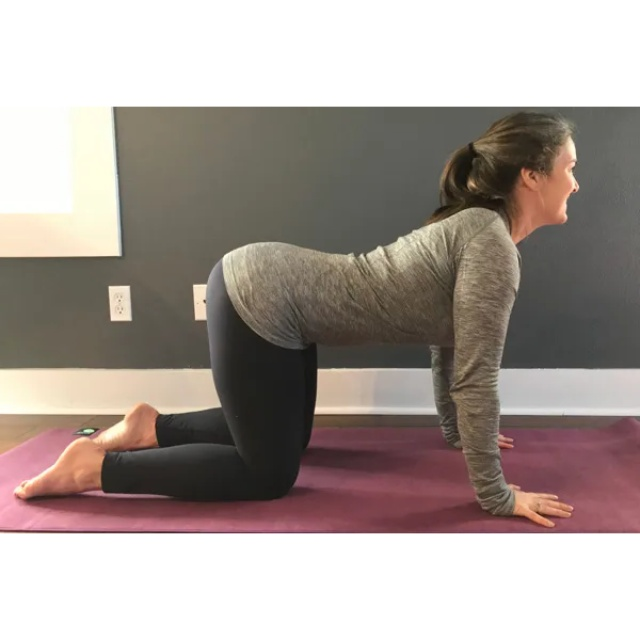Cow_Pose: (14, 114, 581, 526)
